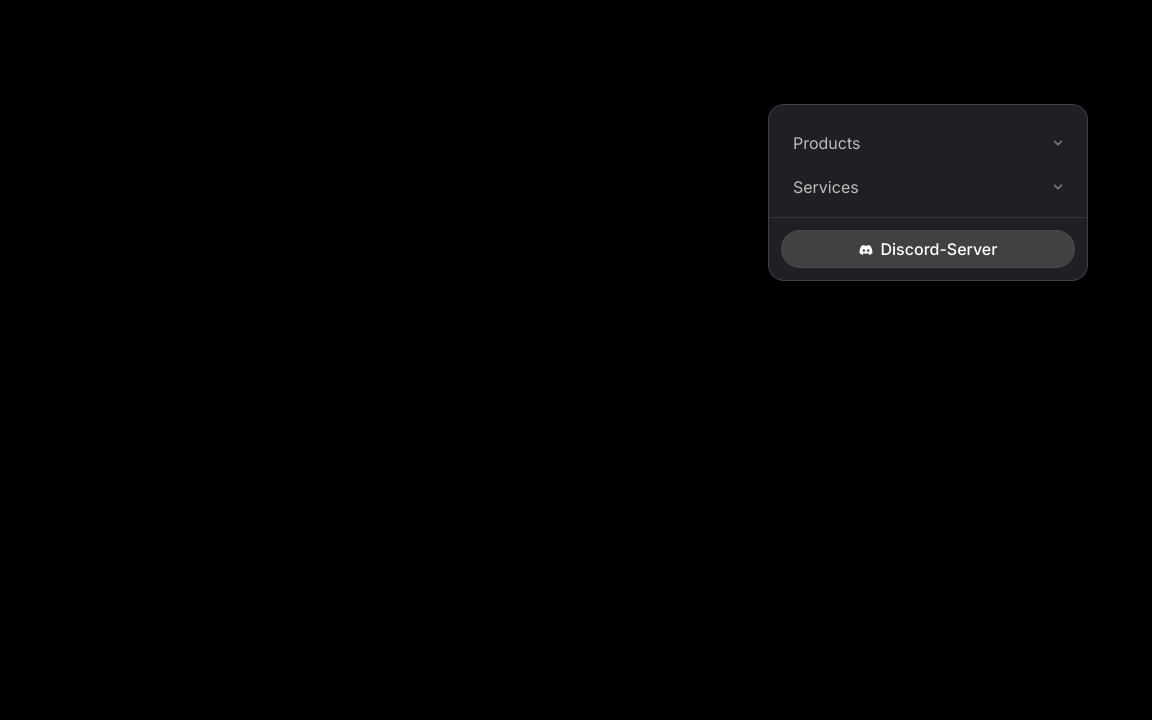
HeaderMobileNav › should collapse previous item when expanding a new item
// Expand first item
Click the button "Products" at coordinates (827, 143), box [769, 121, 1087, 165]
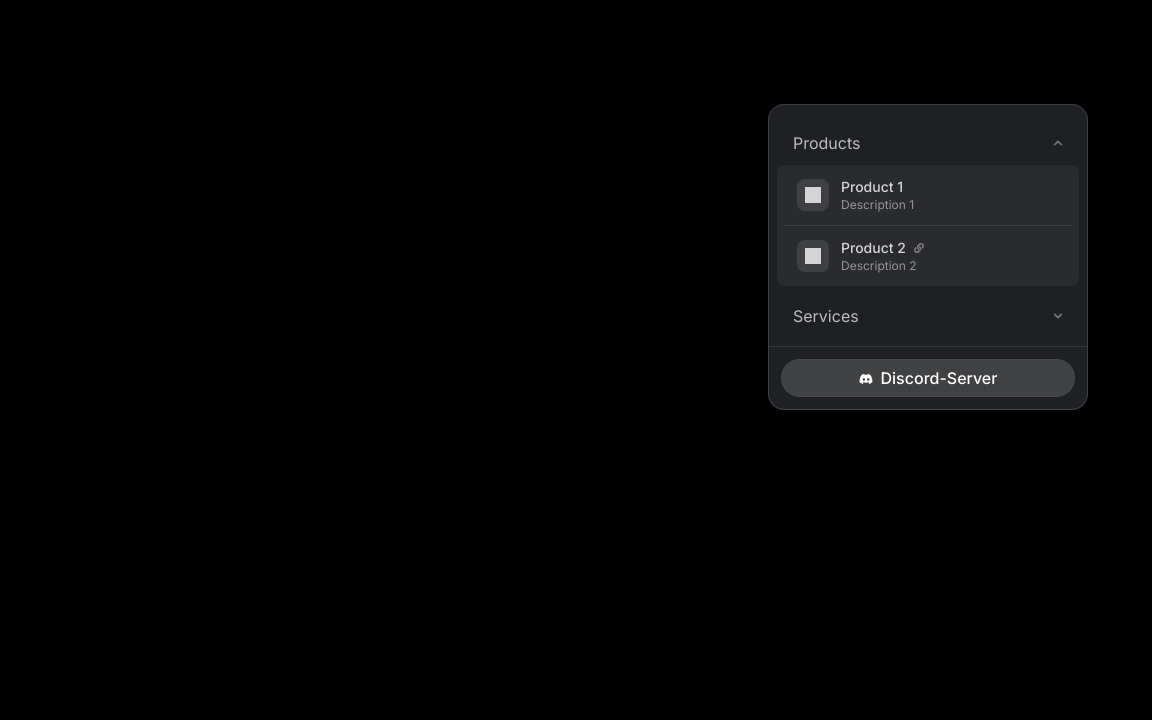
Expected: the button "Products" is expanded, [769, 121, 1087, 165]
// Expand second item
Click the button "Services" at coordinates (826, 316), box [769, 294, 1087, 338]
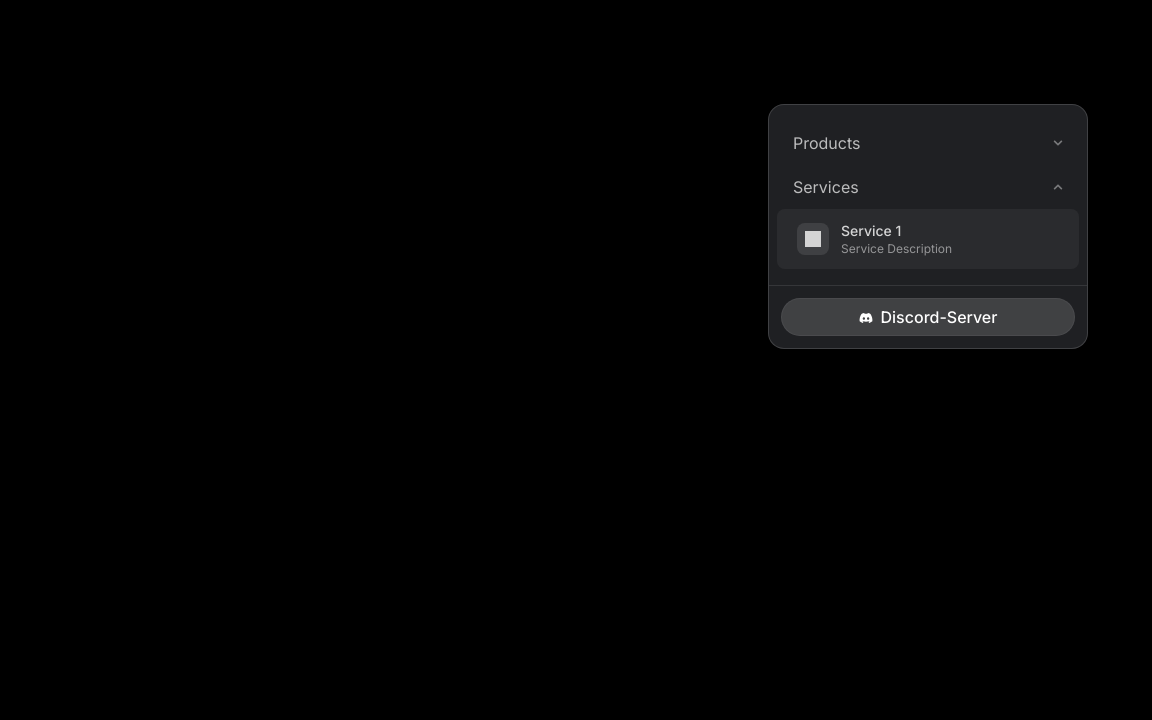
Expected: the button "Products" is collapsed, [769, 121, 1087, 165]
Expected: the button "Services" is expanded, [769, 165, 1087, 209]
